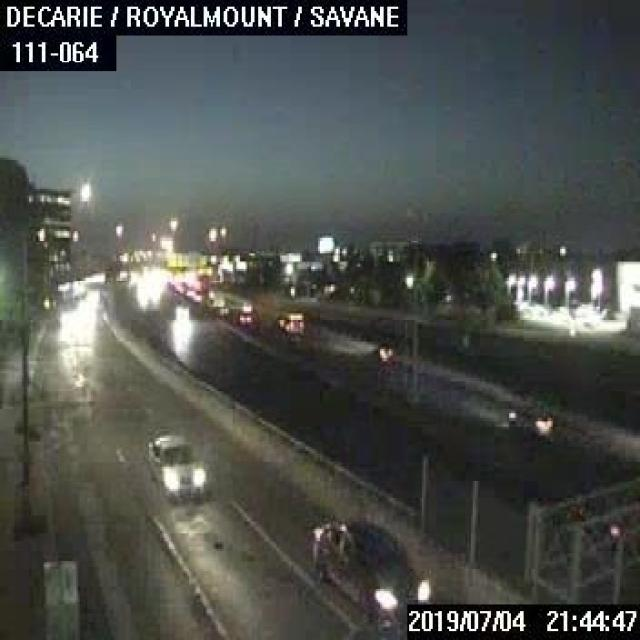vehicle: (309, 514, 430, 626), (147, 433, 205, 499), (505, 407, 553, 433), (278, 309, 305, 338), (236, 303, 253, 325), (373, 338, 391, 358)
